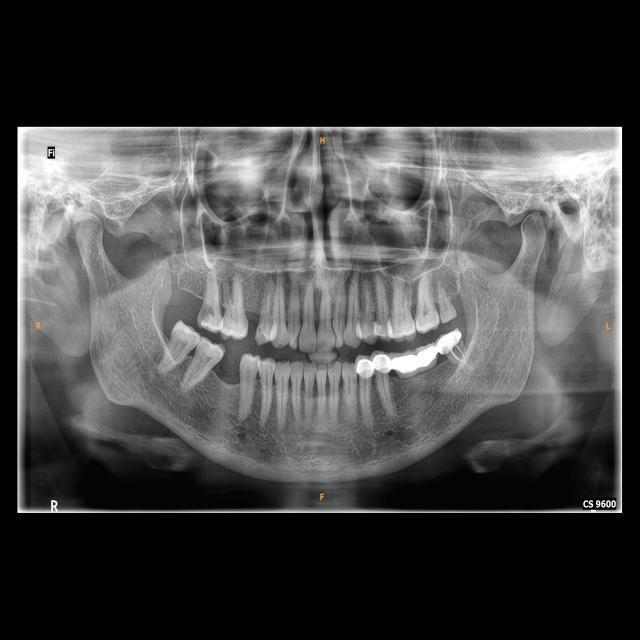dentin-curugu: (195, 301, 218, 325)
kanal-tedavisi: (451, 346, 473, 372)
kaplama: (369, 350, 394, 376), (438, 331, 463, 353), (354, 357, 374, 380)
kopru: (387, 341, 446, 378)
